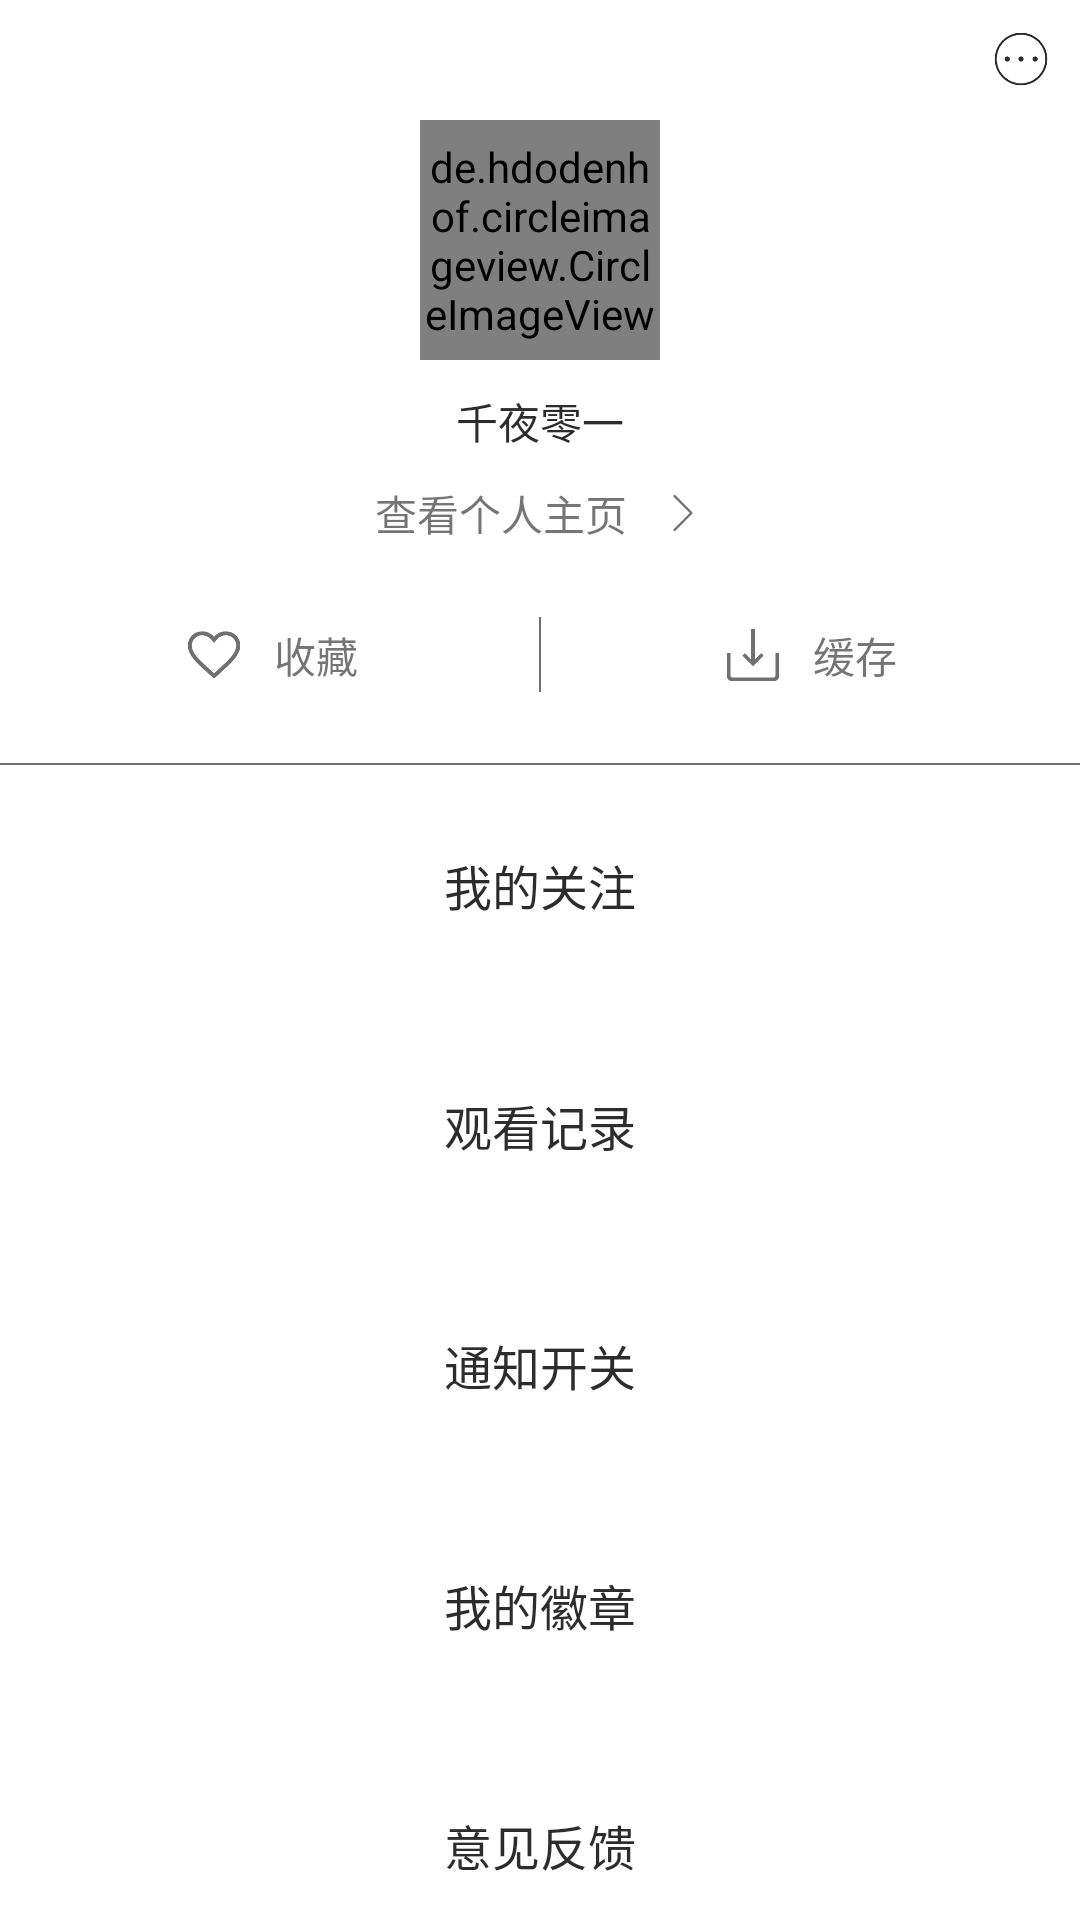

Icons on this 1080w x 1920h Android screen, each with its box as (left=x1, top=y1, right=x2, bottom=y2):
download: (left=727, top=629, right=779, bottom=681)
heart: (left=188, top=631, right=240, bottom=678)
jiantou: (left=673, top=495, right=693, bottom=531)
setting: (left=995, top=33, right=1048, bottom=85)
